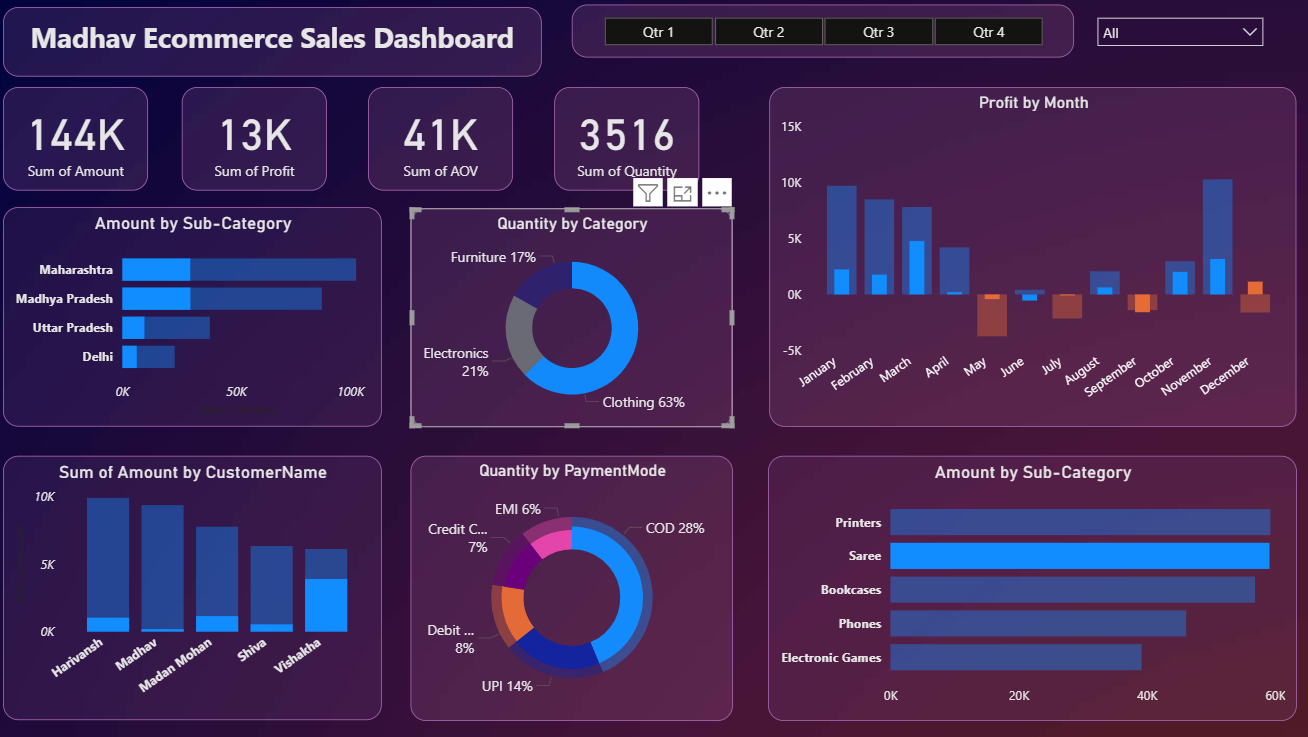

This screenshot's page, from the dashboard's own definition file:
{"tool":"powerbi","page":{"name":"Page 1","canvas":[1280,720],"ordinal":0},"visuals":[{"type":"textbox","box":[9.7,9.7,520,67.6],"z":0},{"type":"columnChart","title":"Profit by Month","fields":{"Y":["Sum(Details.Profit)"],"Category":["Orders.Order Date.Variation.Date Hierarchy.Month"]},"box":[749.2,86.9,509.1,328.2],"z":1000},{"type":"barChart","title":"Amount by Sub-Category","fields":{"Category":["Details.Sub-Category"],"Y":["Sum(Details.Amount)"]},"box":[748,442.8,510.3,255.8],"z":2000},{"type":"donutChart","title":"Quantity by Category","fields":{"Category":["Details.Category"],"Y":["Sum(Details.Quantity)"]},"box":[403,203.9,311.3,211.1],"z":3000},{"type":"donutChart","title":"Quantity by PaymentMode","fields":{"Category":["Details.PaymentMode"],"Y":["Sum(Details.Quantity)"]},"box":[403,442.8,311.3,255.8],"z":4000},{"type":"card","fields":{"Values":["Sum(Details.Amount)"]},"box":[10,86.7,140,100],"z":5000},{"type":"card","fields":{"Values":["Sum(Details.Quantity)"]},"box":[541.1,86.7,140,100],"z":6000},{"type":"card","fields":{"Values":["Sum(Details.Profit)"]},"box":[182.2,86.7,140,100],"z":7000},{"type":"card","fields":{"Values":["Sum(Details.AOV)"]},"box":[362.2,86.7,140,100],"z":8000},{"type":"barChart","title":"Amount by Sub-Category","fields":{"Category":["Orders.State"],"Y":["Sum(Details.Amount)"]},"box":[10,202.2,365.6,212.2],"z":9000},{"type":"columnChart","fields":{"Category":["Orders.CustomerName"],"Y":["Sum(Details.Amount)"]},"box":[10,443.3,365.6,255.6],"z":10000},{"type":"slicer","fields":{"Values":["Orders.Order Date.Variation.Date Hierarchy.Quarter"]},"box":[558.9,7.8,484.4,51.1],"z":11000},{"type":"slicer","fields":{"Values":["Orders.State"]},"box":[1056,10,180,49],"z":12000}]}

Visuals, with their boxes in screenshot pixels (x1, y1, x2, y2), scaled from the page's 1280x720 canvas onto the 1308x737 screenshot:
textbox: region(10, 10, 541, 79)
"Profit by Month" columnChart: region(766, 89, 1286, 425)
"Amount by Sub-Category" barChart: region(764, 453, 1286, 715)
"Quantity by Category" donutChart: region(412, 209, 730, 425)
"Quantity by PaymentMode" donutChart: region(412, 453, 730, 715)
card - Sum(Details.Amount): region(10, 89, 153, 191)
card - Sum(Details.Quantity): region(553, 89, 696, 191)
card - Sum(Details.Profit): region(186, 89, 329, 191)
card - Sum(Details.AOV): region(370, 89, 513, 191)
"Amount by Sub-Category" barChart: region(10, 207, 384, 424)
columnChart - Orders.CustomerName x Sum(Details.Amount): region(10, 454, 384, 715)
slicer - Orders.Order Date.Variation.Date Hierarchy.Quarter: region(571, 8, 1066, 60)
slicer - Orders.State: region(1079, 10, 1263, 60)
